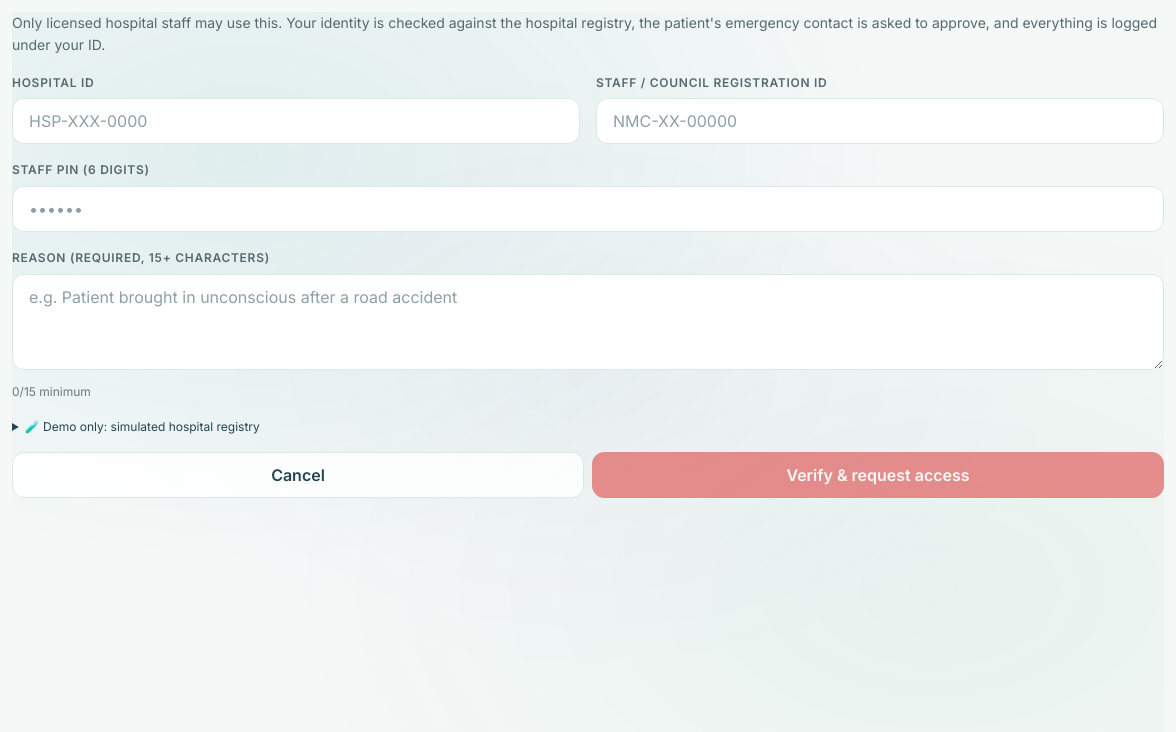
Scenario: Level 3 override panel › shows the registry's refusal, clears the PIN, and offers the demo identities only in demo mode
Expected: the heading "🧪 Demo only: simulated hospital registry" is shown, [25,419,260,434]
Type "HSP-DEL-0001" into the field labelled "Hospital ID".
click(296, 121); type("HSP-DEL-0001")  # box [12,98,580,144]
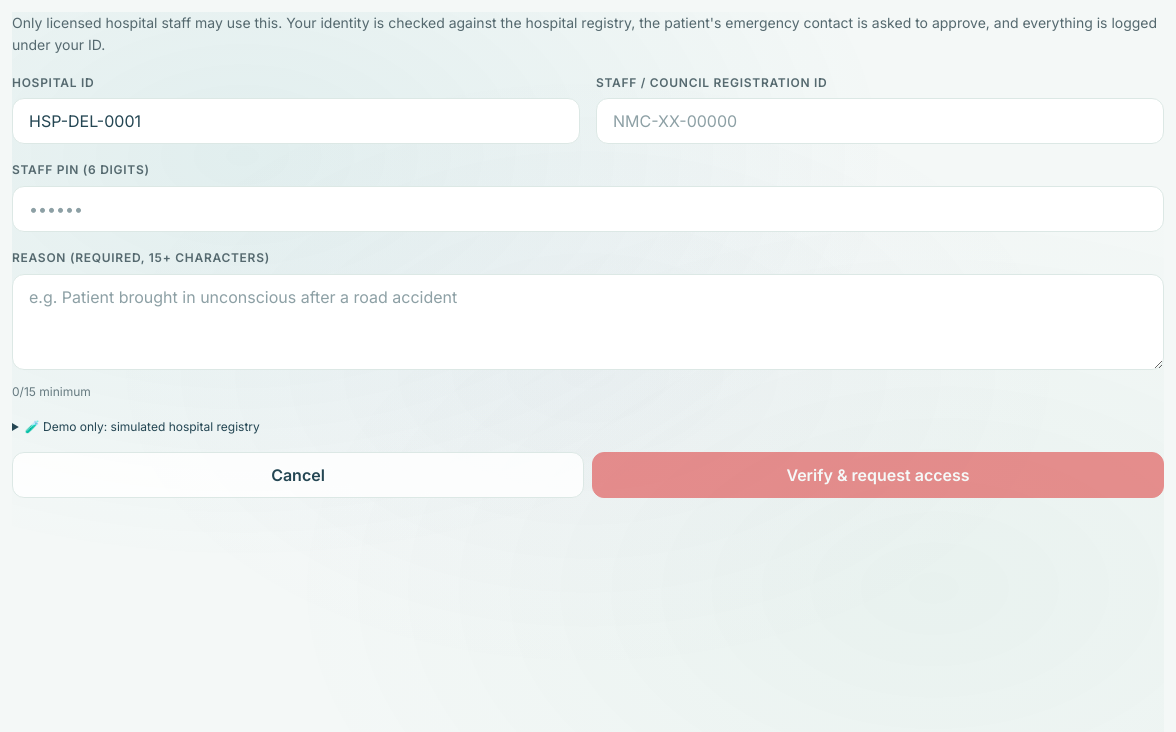
Type "NMC-DL-48213" into the field labelled "Staff / council registration ID".
click(880, 121); type("NMC-DL-48213")  # box [596,98,1164,144]
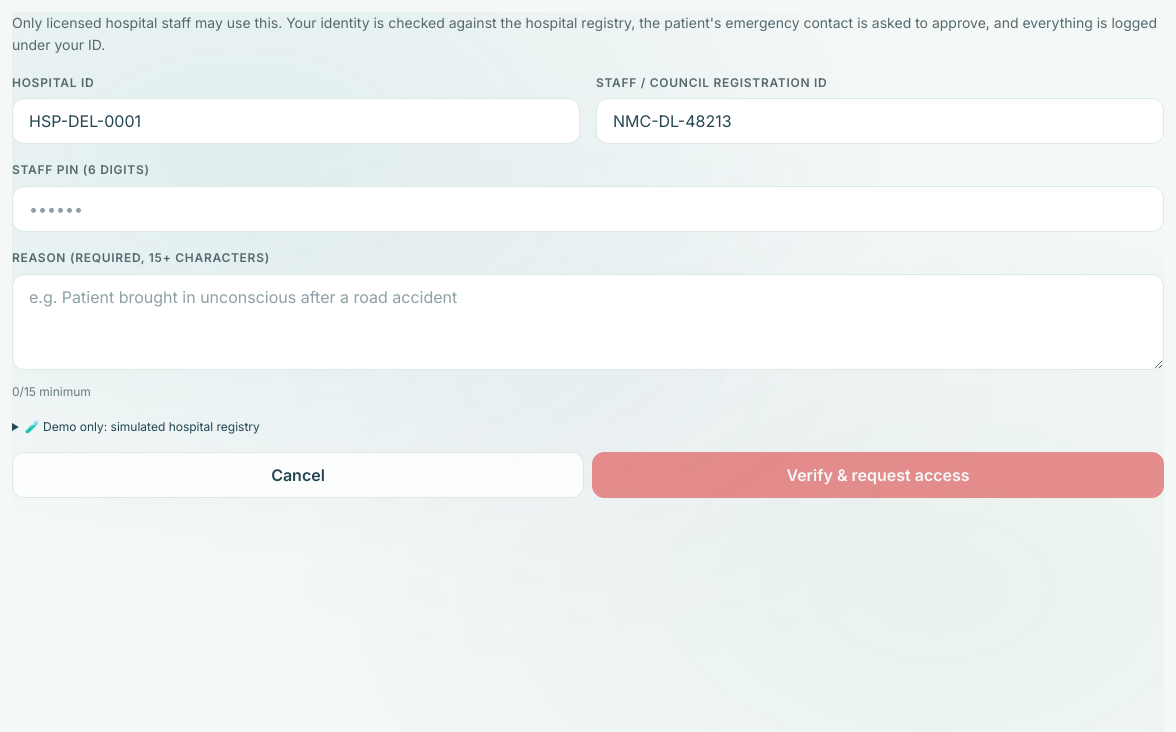
Type "000000" into the password field labelled "Staff PIN (6 digits)".
click(588, 209); type("000000")  # box [12,186,1164,232]
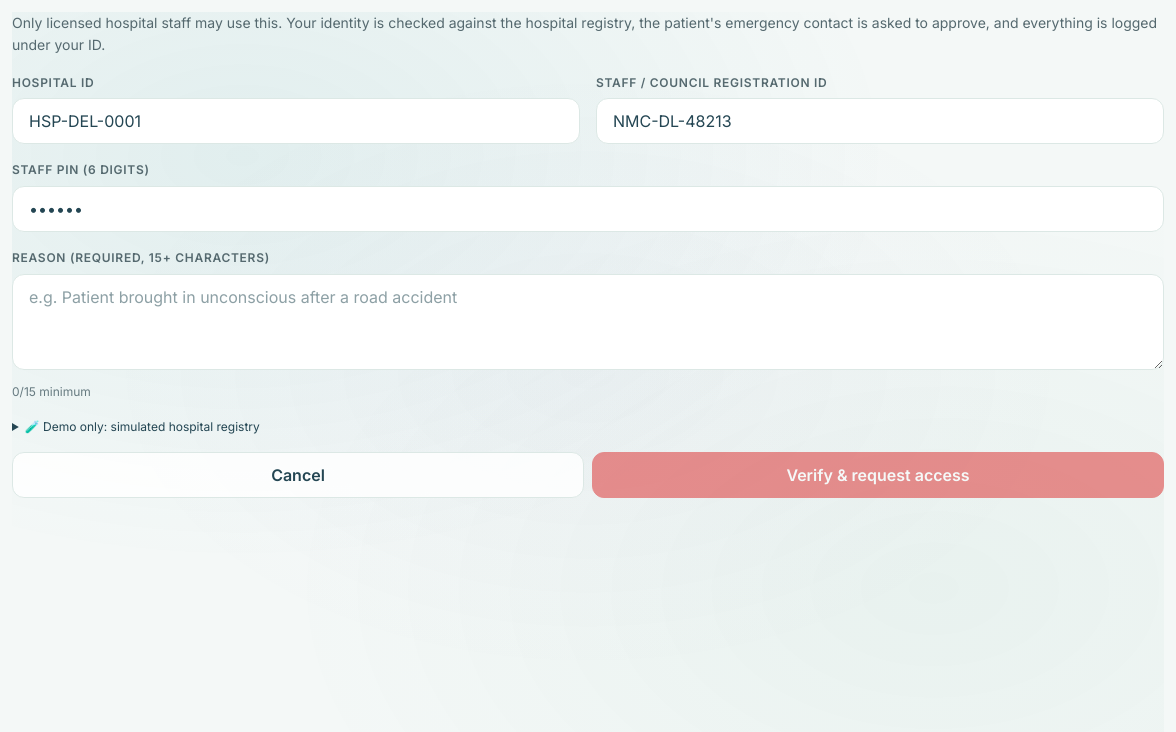
Type "Patient unconscious after road accident" into the text box labelled "Reason (required, 15+ characters)".
click(588, 322); type("Patient unconscious after road accident")  # box [12,274,1164,370]
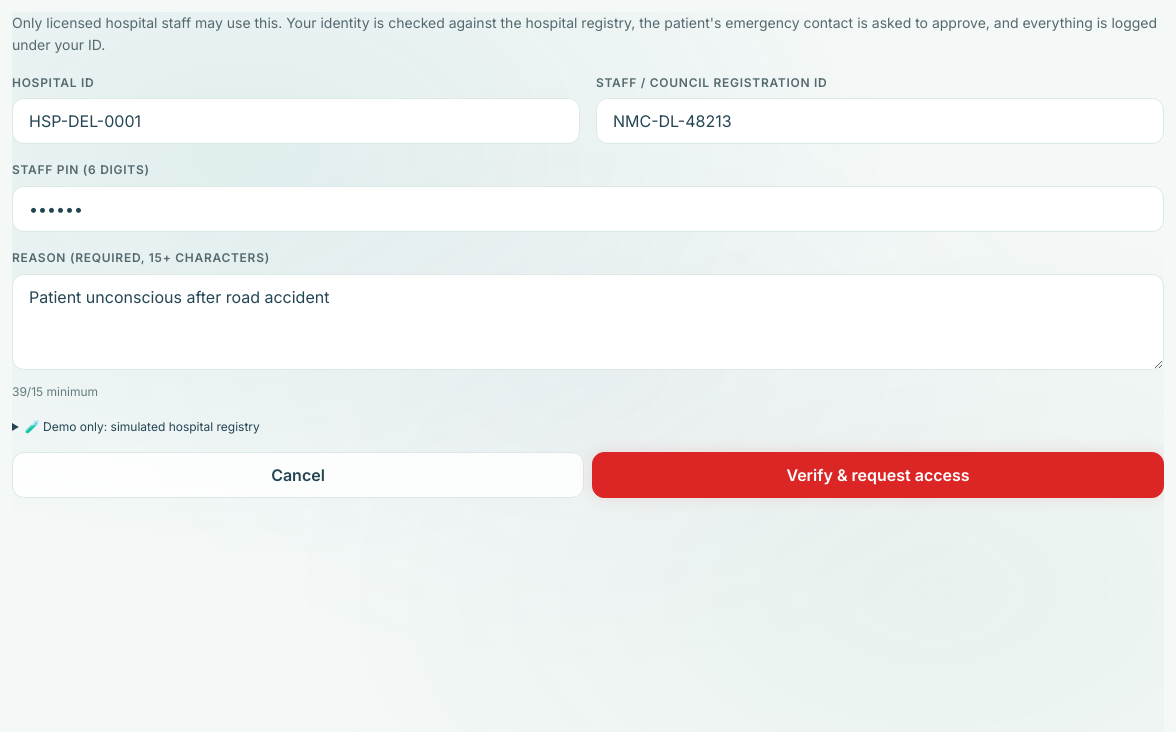
Click the button "Verify & request access".
click(878, 475)  # box [592,452,1164,498]
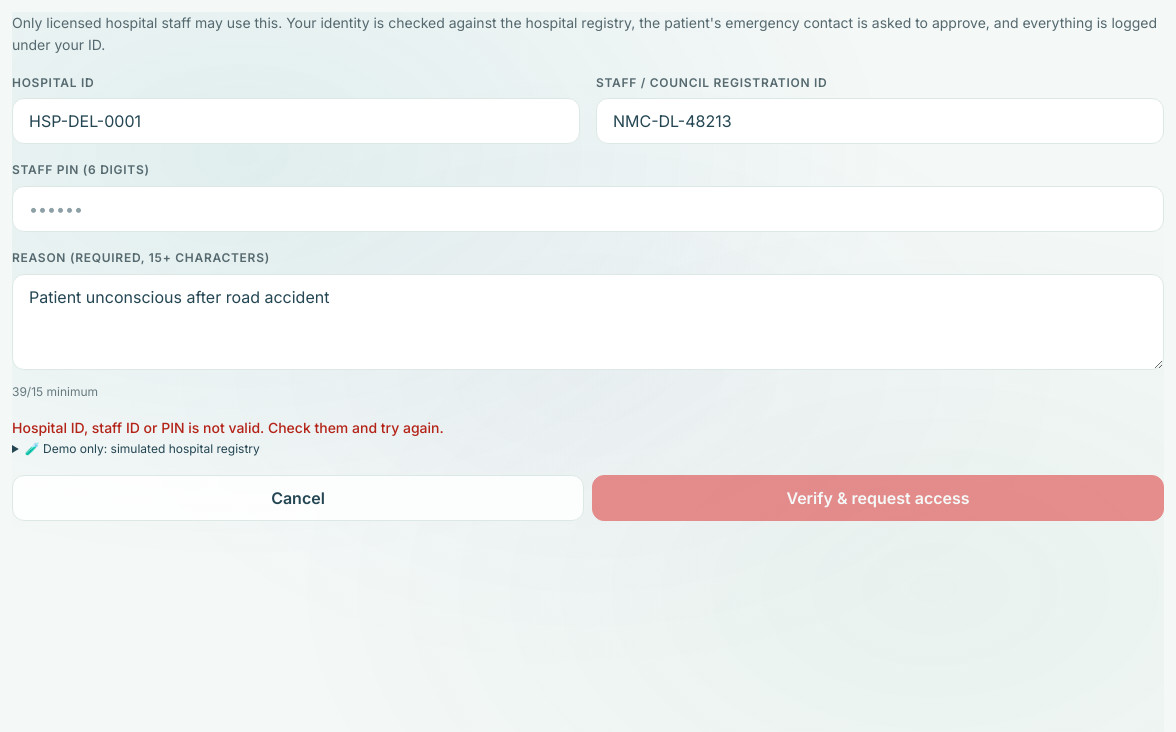
Now the message shows "not valid", box [12,419,444,436]
Now the password field labelled "Staff PIN (6 digits)" is empty, box [12,186,1164,232]
